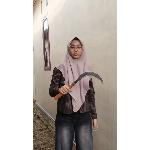Celurit: (54, 66, 110, 102)
